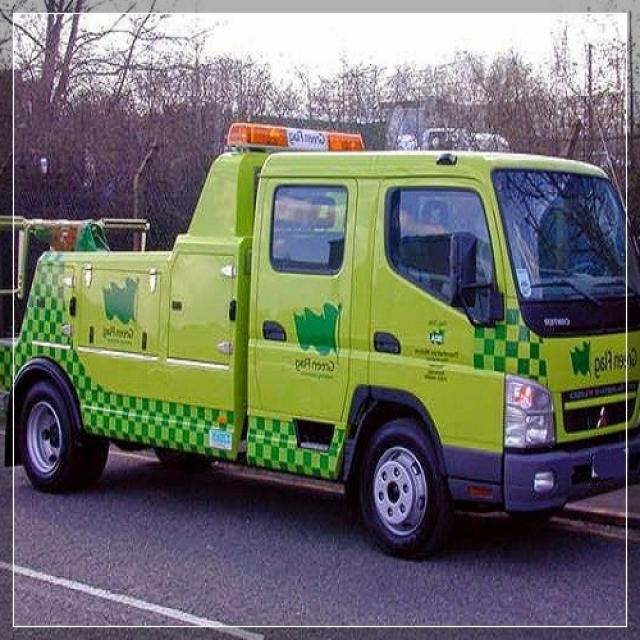truck: (0, 120, 622, 561)
